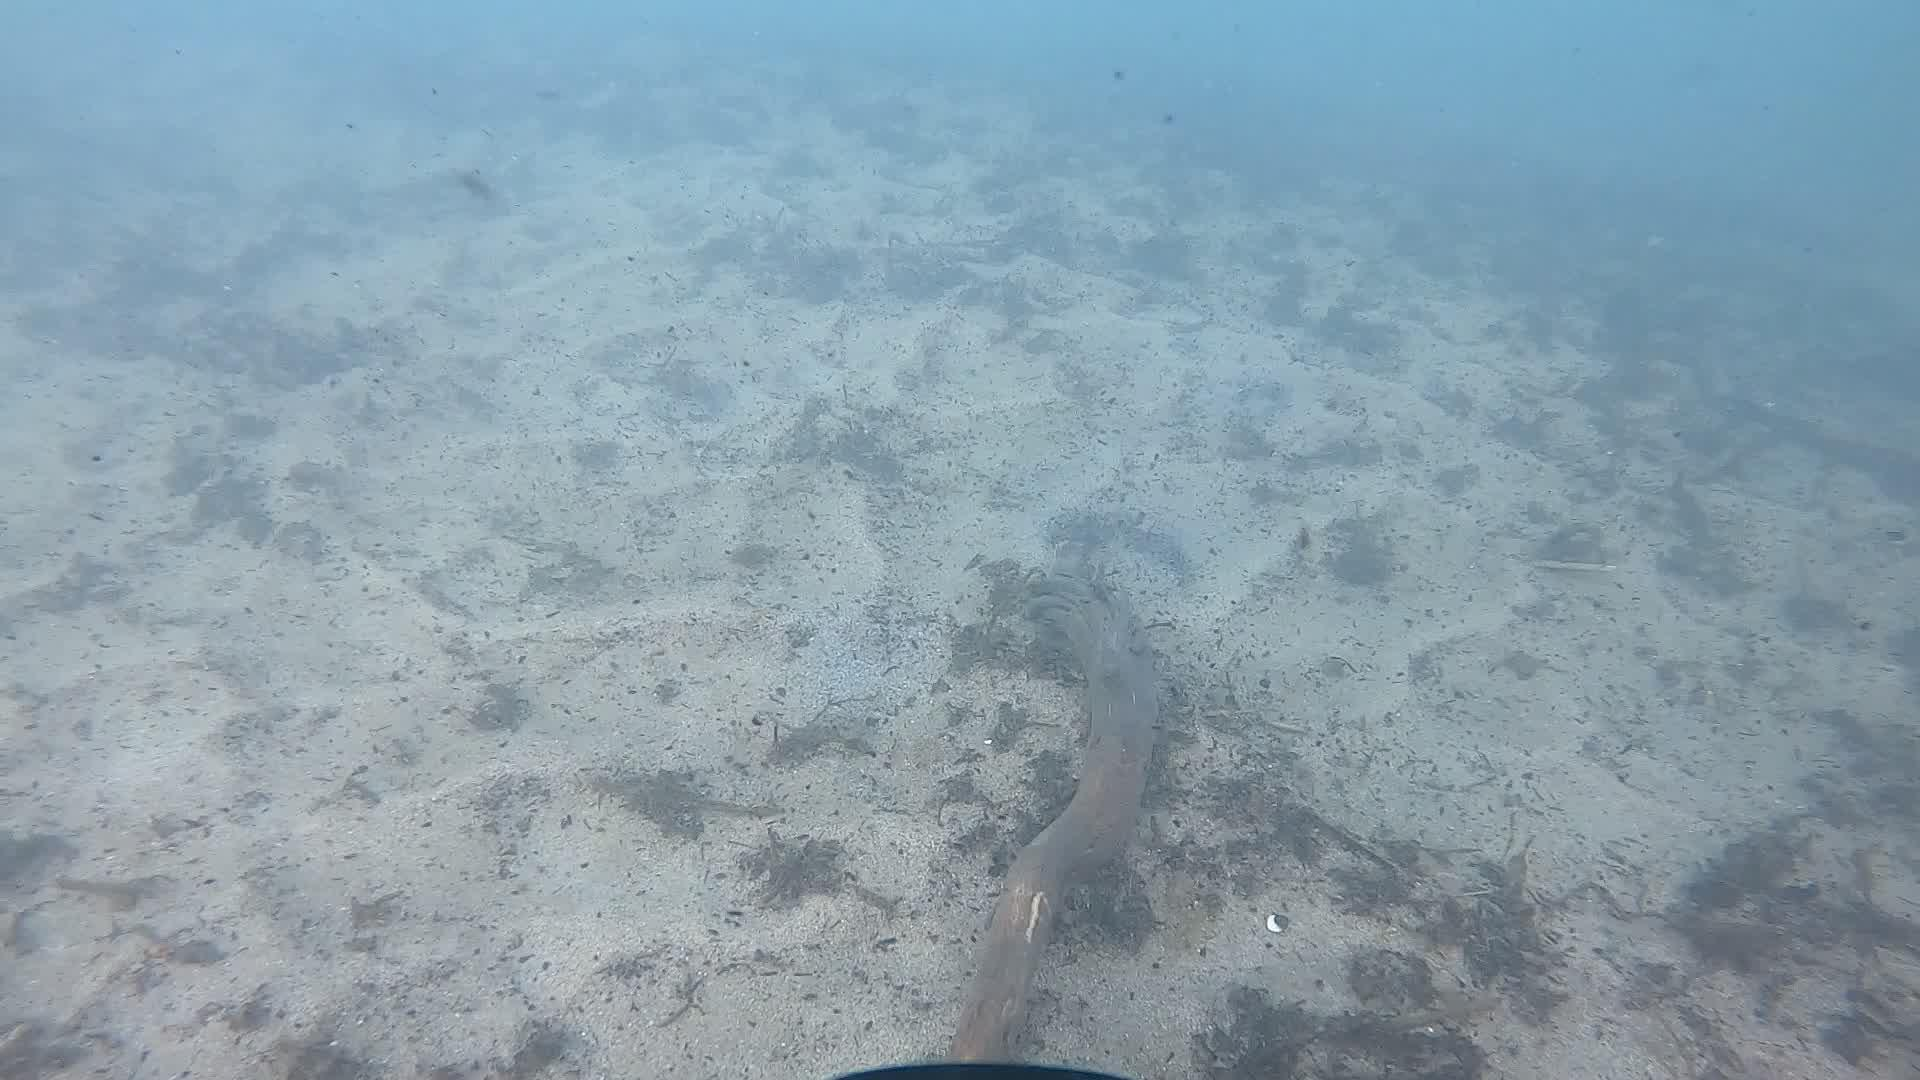wood: (948, 570, 1156, 1059)
